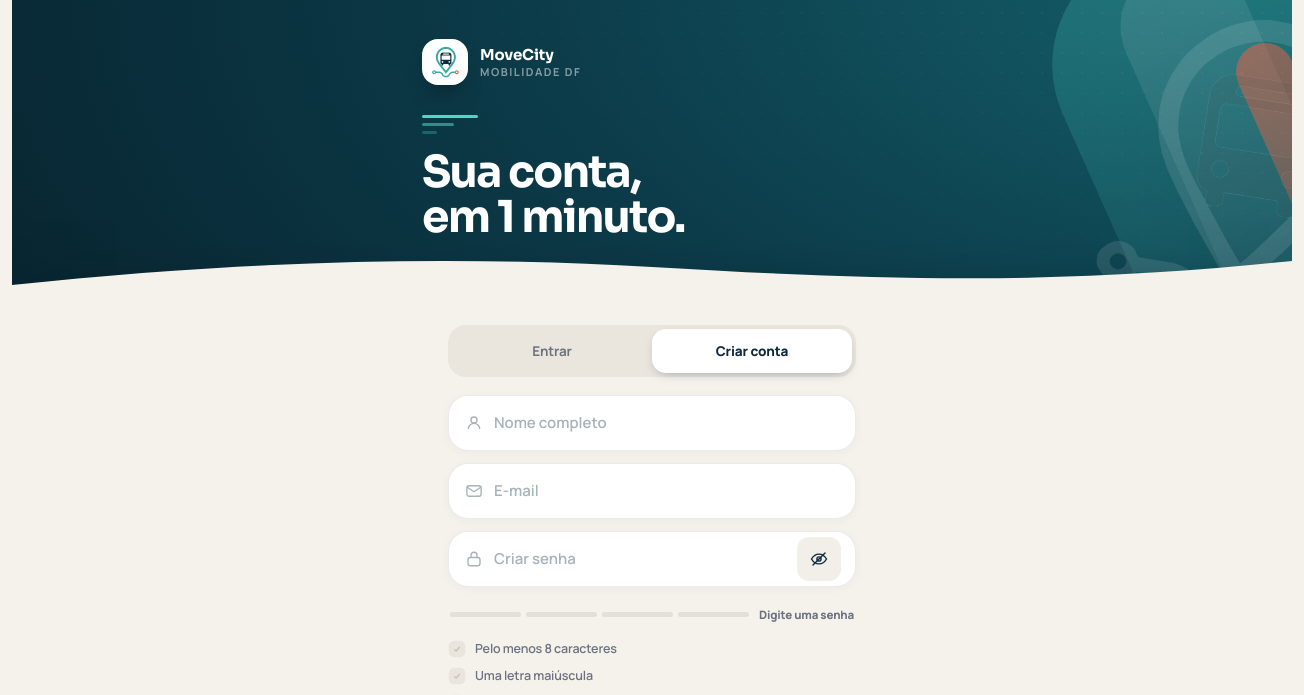
it: Cadastro › exibe alerta quando a senha não atende aos critérios de complexidade
Type "Ana Passageira" into the field labelled "Nome".
click(668, 423); type("Ana Passageira")  # box [494,396,841,450]
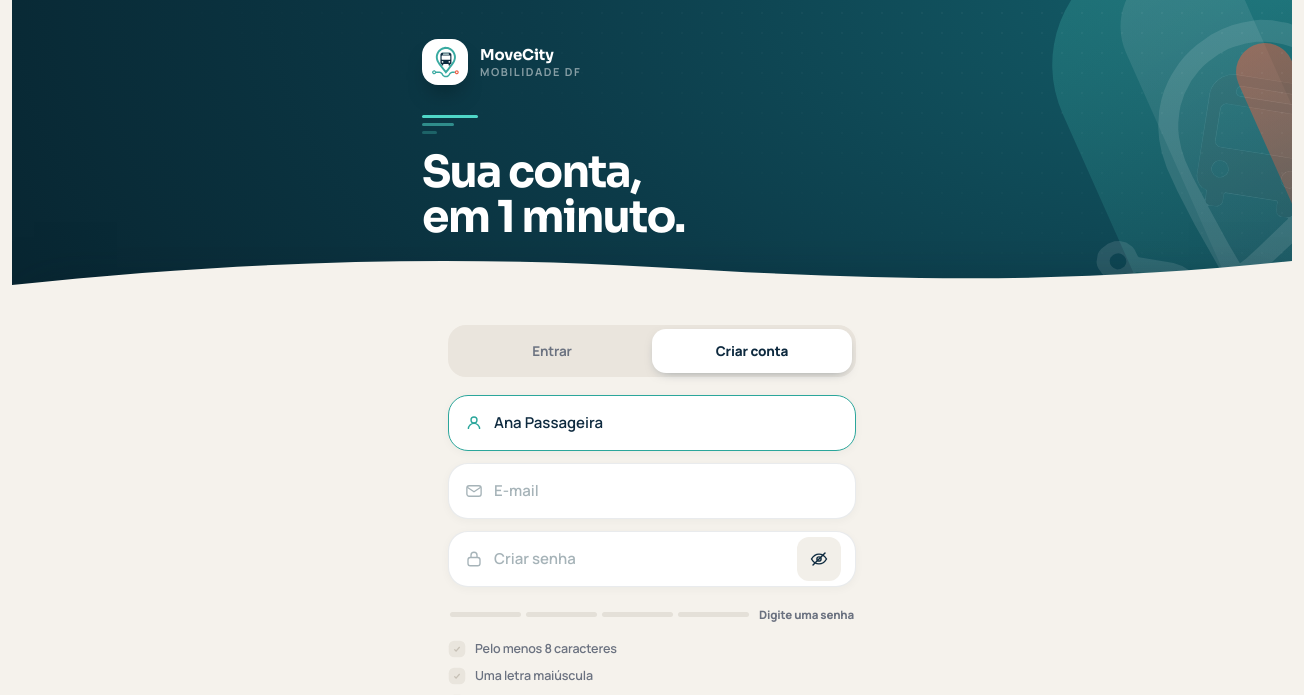
Type "ana@example.com" into the field labelled "E-mail".
click(668, 491); type("ana@example.com")  # box [494,464,841,518]
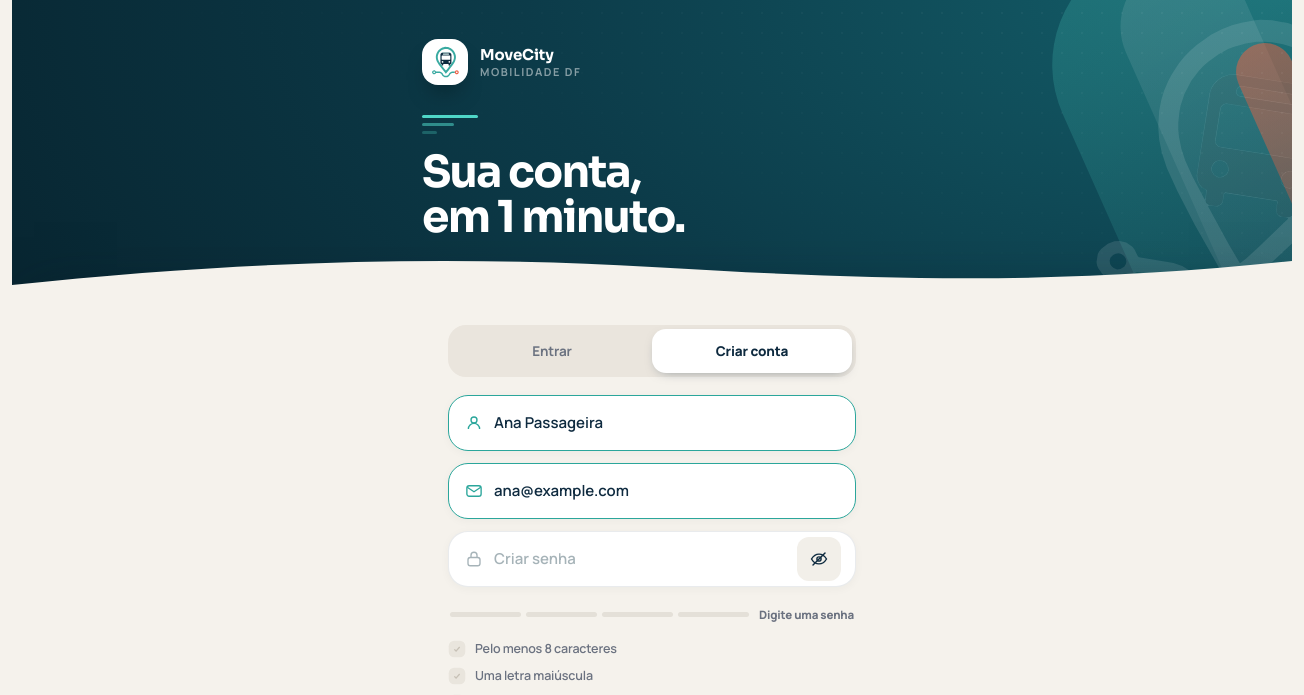
Type "abcdefgh" into the password field labelled "senha".
click(640, 559); type("abcdefgh")  # box [494,532,786,586]
(page scrolled)
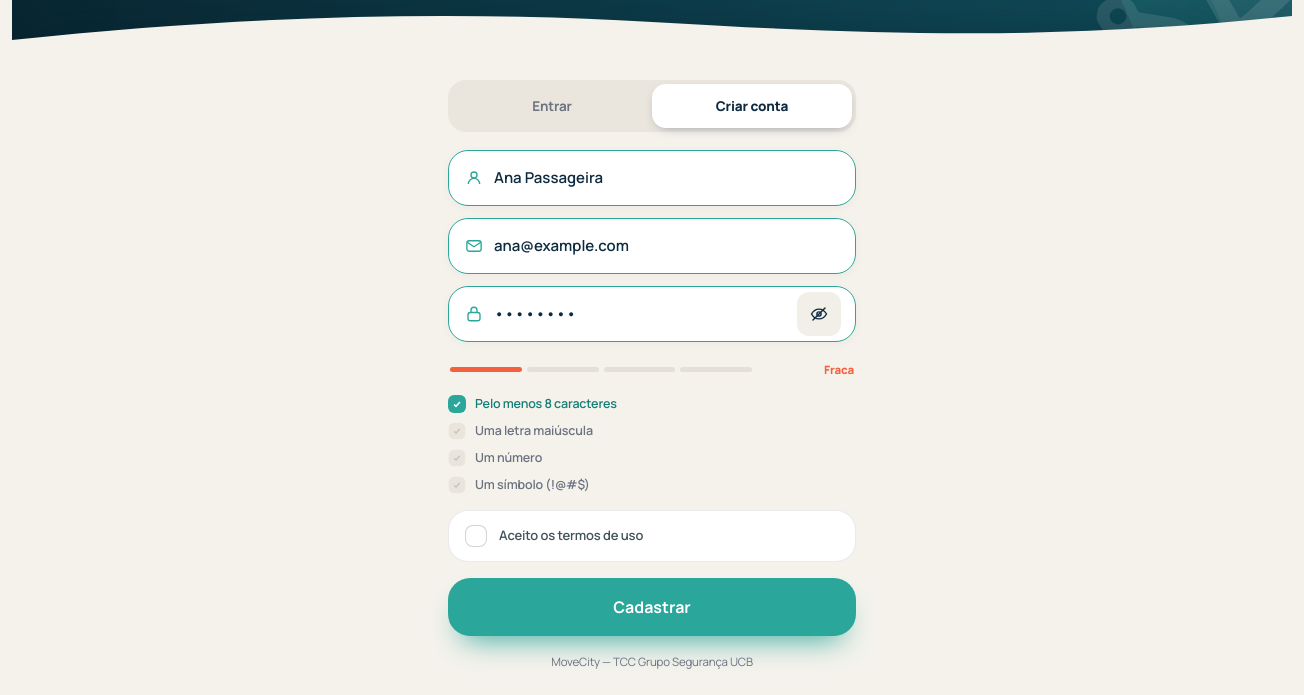
Click the checkbox labelled "Aceito os termos de uso".
click(571, 535)  # box [448,510,856,562]
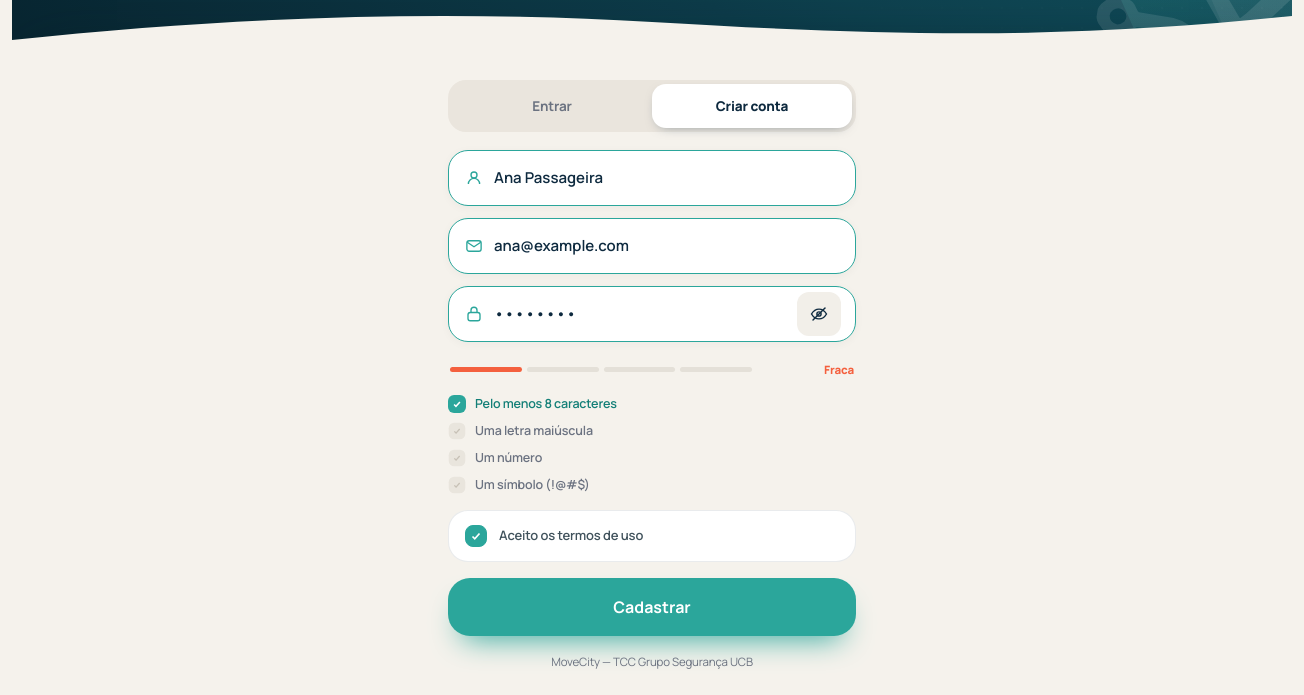
Click the button "Cadastrar".
click(652, 607)  # box [448,578,856,636]
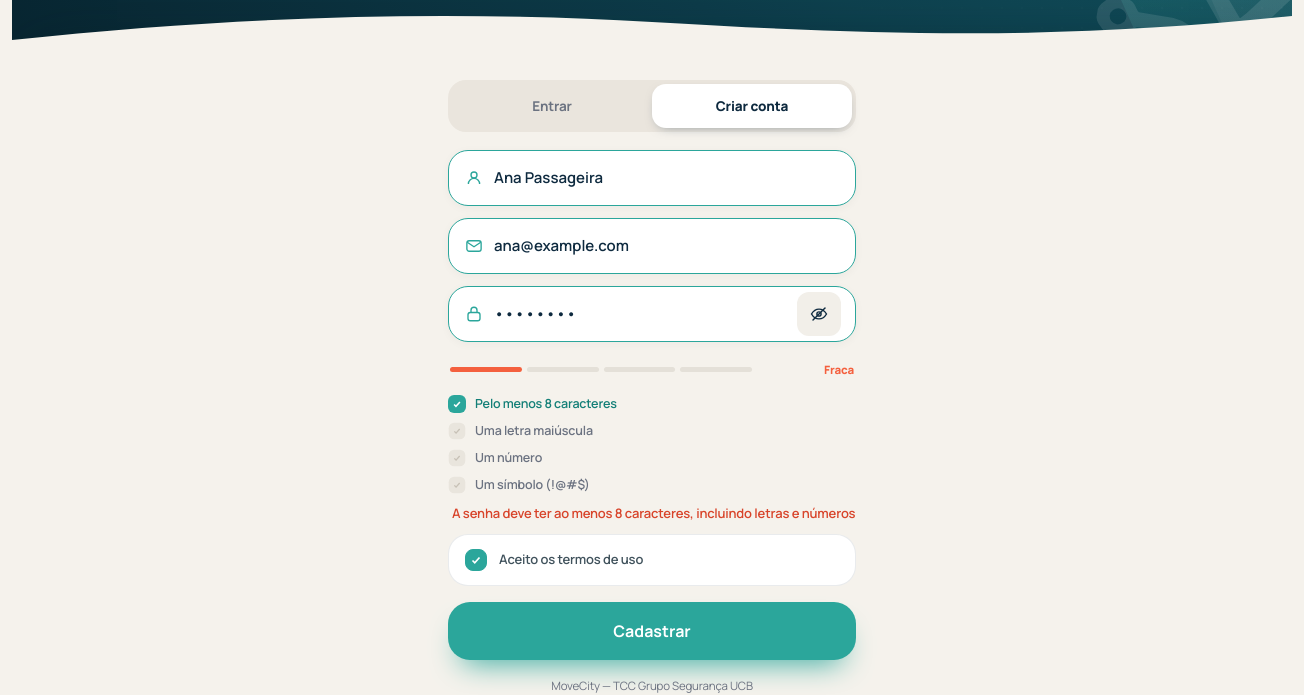
Expected: the text "A senha deve ter ao menos 8 caracteres, incluindo letras e números" is shown, [448,504,856,522]
